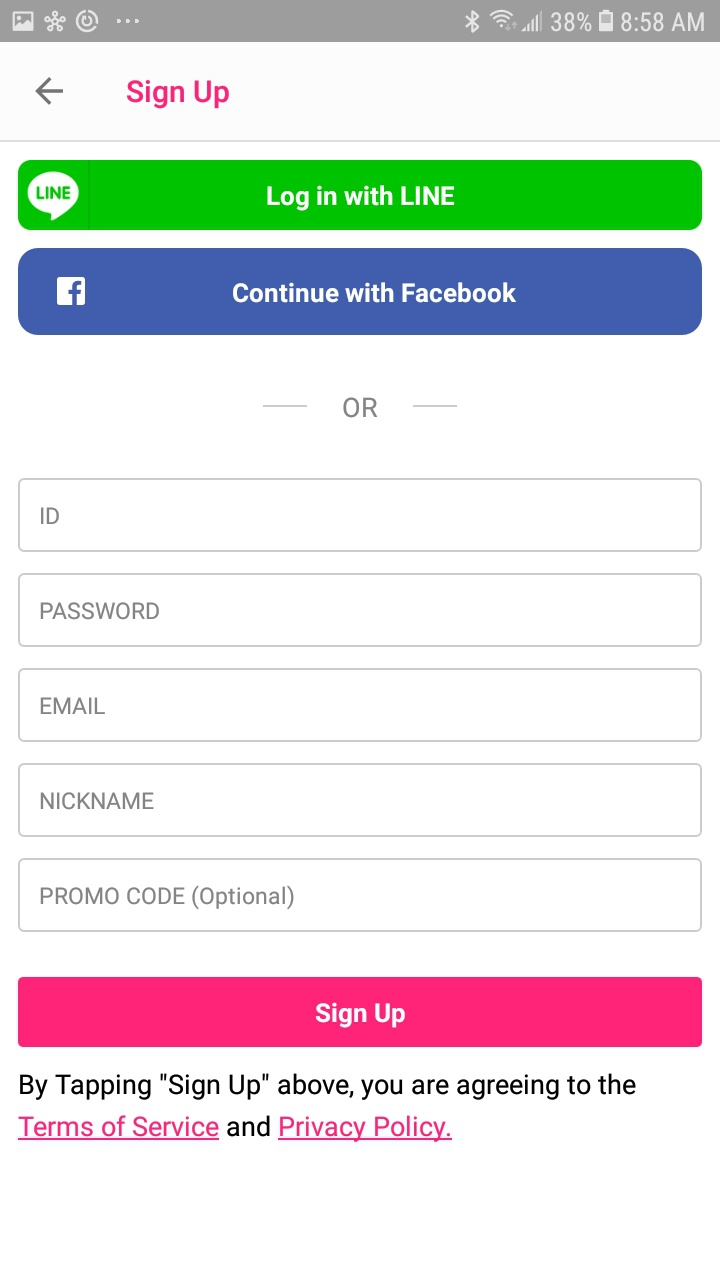EditText: (18, 858, 702, 932), (18, 764, 702, 838), (18, 479, 702, 553), (19, 669, 702, 743), (19, 574, 702, 648)
Icon: (36, 78, 64, 106)
Text: (18, 1072, 637, 1143), (41, 885, 295, 910), (128, 80, 230, 110), (41, 602, 160, 621), (41, 792, 155, 810), (40, 697, 106, 716), (344, 398, 378, 419), (42, 507, 60, 525)
TextButton: (19, 248, 702, 336), (18, 977, 702, 1048), (18, 160, 702, 231)
UpperTaskBar: (1, 1, 720, 43)
